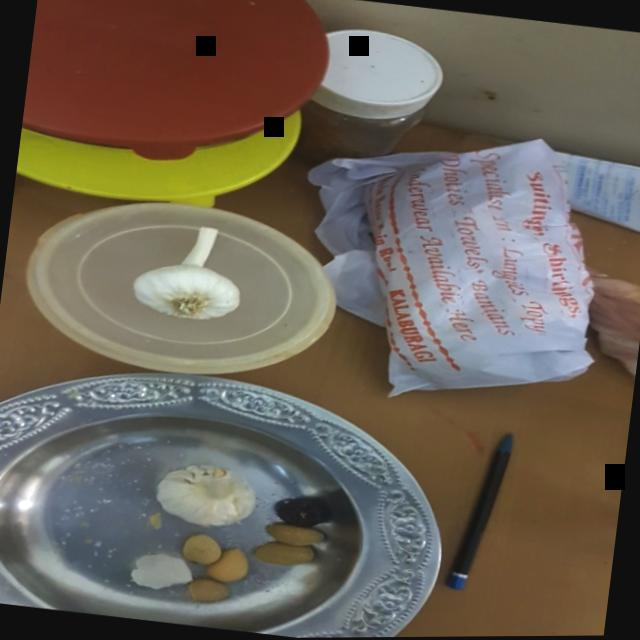garlic: (126, 207, 259, 327), (139, 452, 266, 536)
